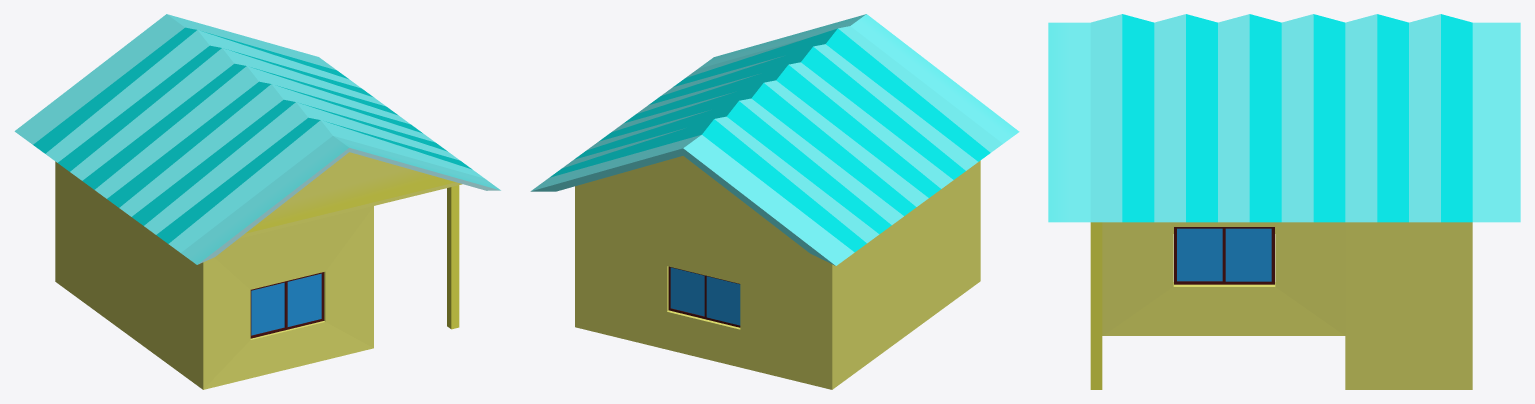
The model's file is SM_house(Old).fbx.
The picture shows the model from 3 angles, left to right: view 1: azimuth 30°, elevation 25°; view 2: azimuth 150°, elevation 25°; view 3: azimuth 270°, elevation 25°; orthographic projection. The views are drawn at different scales.
Parts seen in each view (by area): view 1: Hosue; view 2: Hosue; view 3: Hosue.
Boxes of the visible parts, <box> form: Hosue: <box>14,14,500,389</box>; Hosue: <box>530,14,1019,389</box>; Hosue: <box>1048,14,1520,389</box>.
Size of the model in its own units: 357 by 257 by 371.
